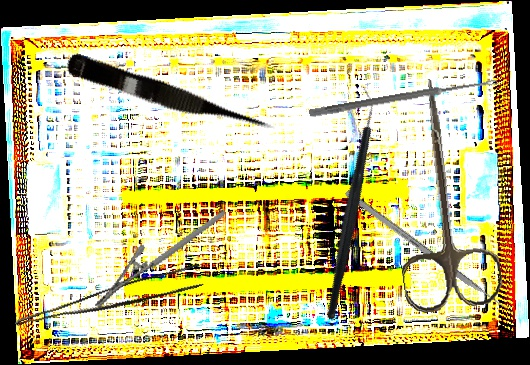Chopper: (250, 83, 447, 322)
Iris Scissors: (375, 72, 506, 316)
Micro Scissor: (62, 50, 278, 145)
Needle Holder: (79, 210, 242, 310)
Pusher: (344, 189, 519, 320)
Surgical Spoon: (308, 76, 499, 119)
Tissue Forceps: (14, 257, 206, 348)
